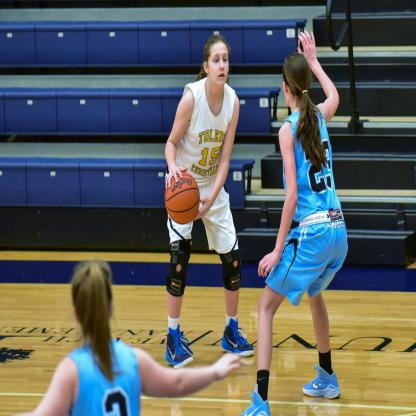Ball: (164, 170, 200, 223)
